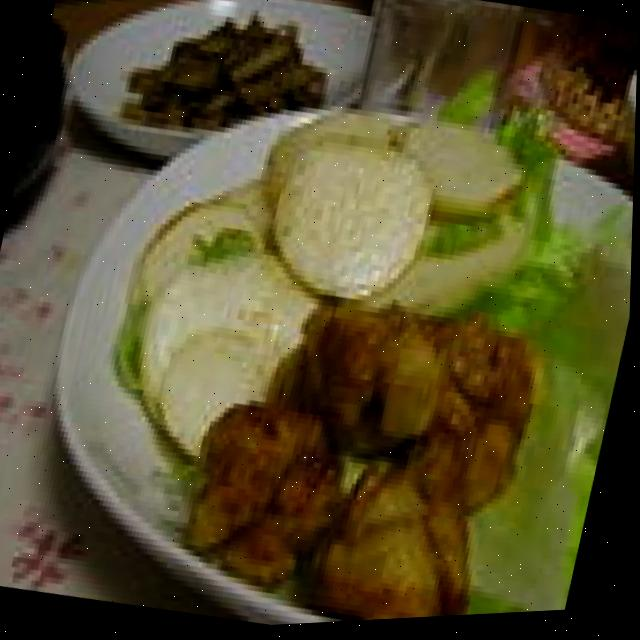鸡肉料理 含炸鸡: (107, 211, 624, 635)
